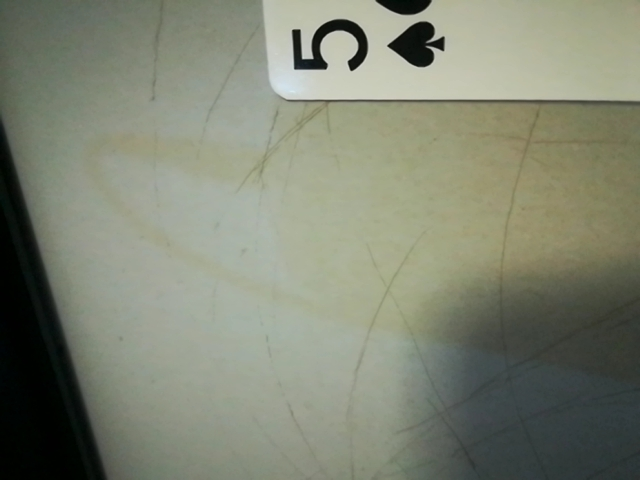ht 5: (283, 0, 456, 92)
